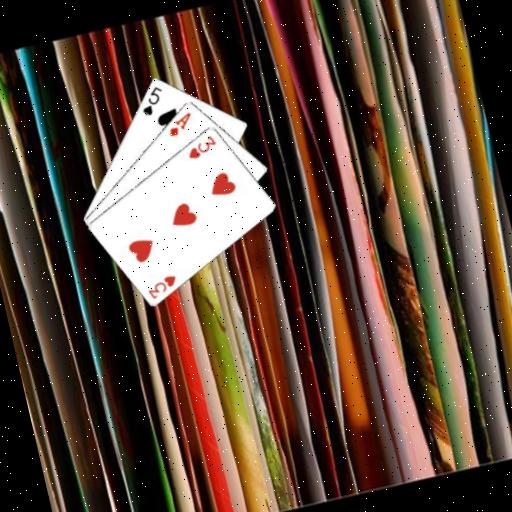3H: (143, 271, 182, 302), (182, 131, 220, 162)
5S: (134, 82, 169, 119)
AD: (162, 109, 197, 139)
